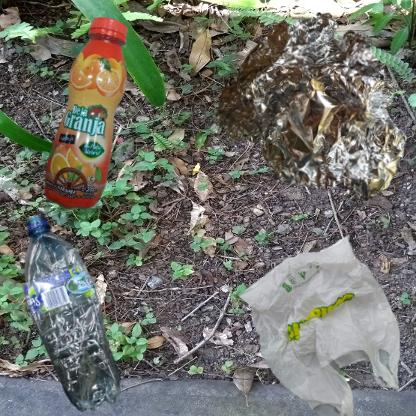aluminio: (213, 10, 409, 201)
bolsa: (213, 213, 416, 416)
botella: (10, 10, 221, 290), (10, 213, 139, 416)
